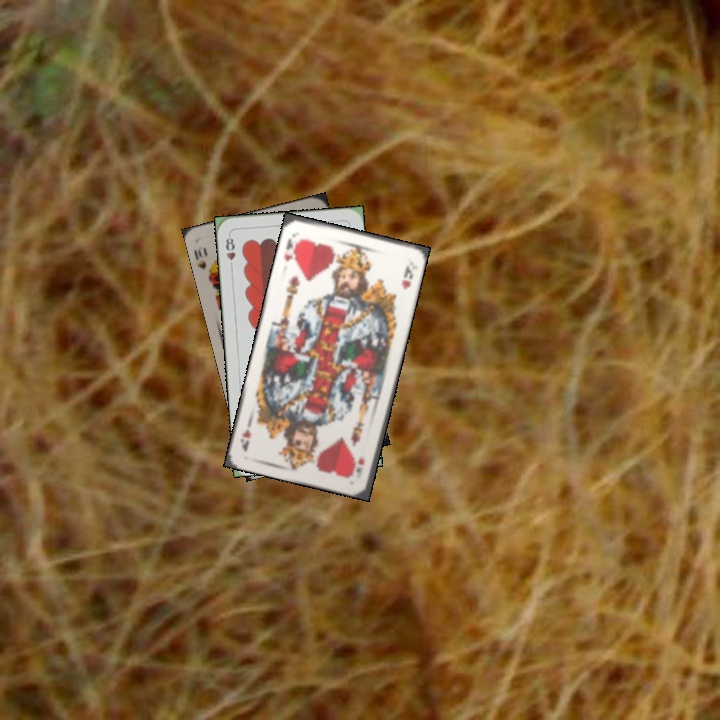H8: (222, 231, 238, 271)
HK: (280, 230, 303, 264), (352, 452, 368, 480)
S10: (190, 242, 216, 279)
